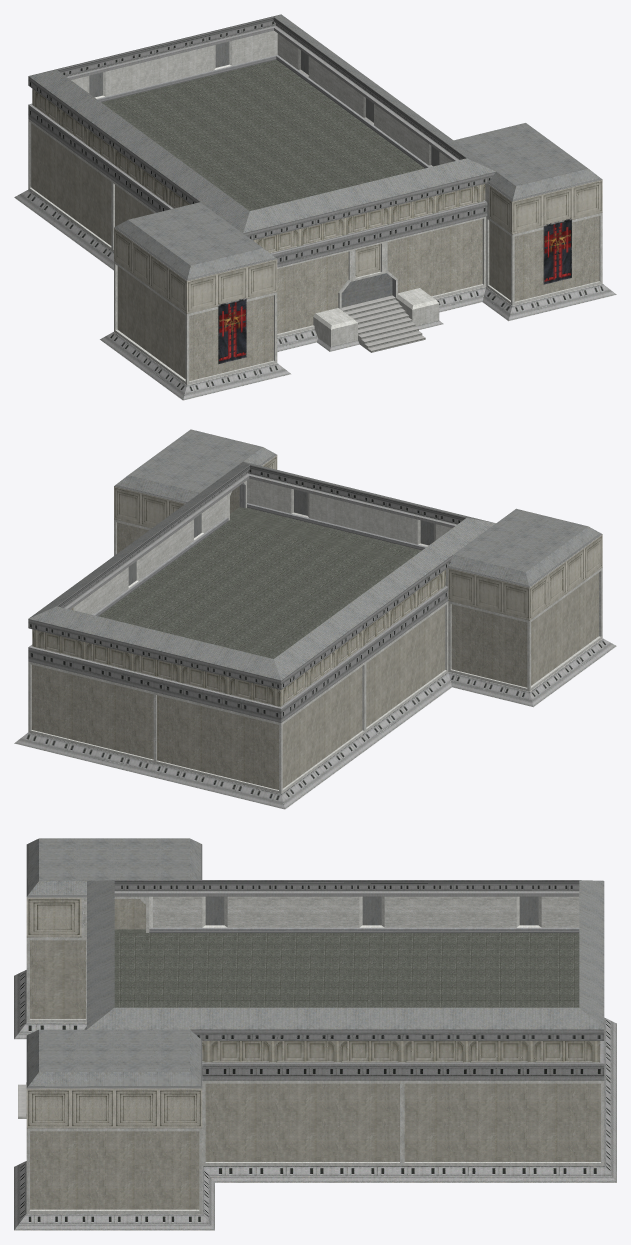
File: ply_corl_assoc_hall_civ_s01_l0.fbx
3 views of the same model, one above another, from view 1: azimuth 30°, elevation 25°; view 2: azimuth 150°, elevation 25°; view 3: azimuth 270°, elevation 25° (orthographic). The views are drawn at different scales.
Parts seen in each view (by area): view 1: mesh_node; view 2: mesh_node; view 3: mesh_node.
Boxes of the visible parts, x1,y1,x2,y2 form: mesh_node: [14, 14, 616, 400]; mesh_node: [14, 429, 616, 809]; mesh_node: [14, 838, 616, 1230].
Size of the model in its own units: 48 by 14 by 48.
